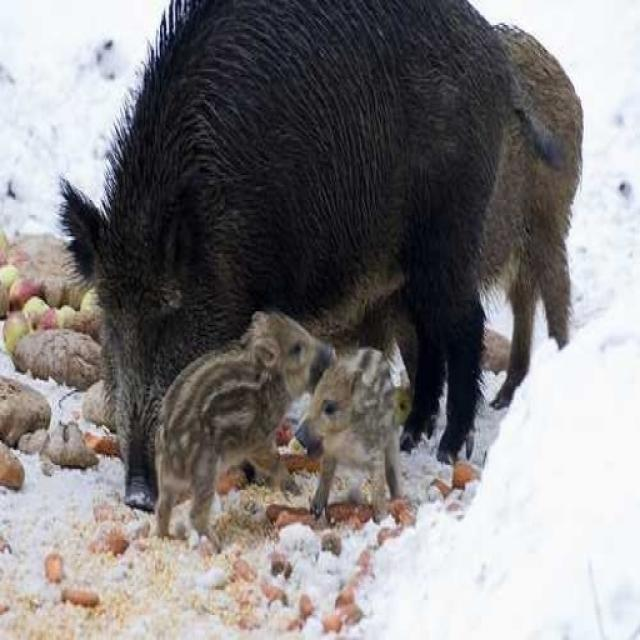pig: (28, 0, 508, 499), (160, 288, 325, 557), (299, 338, 439, 552)
